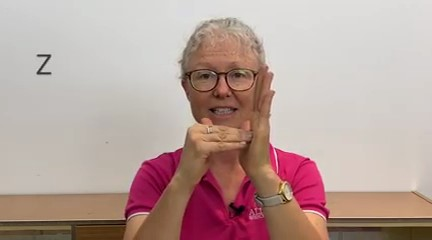Z: (174, 58, 286, 190)
